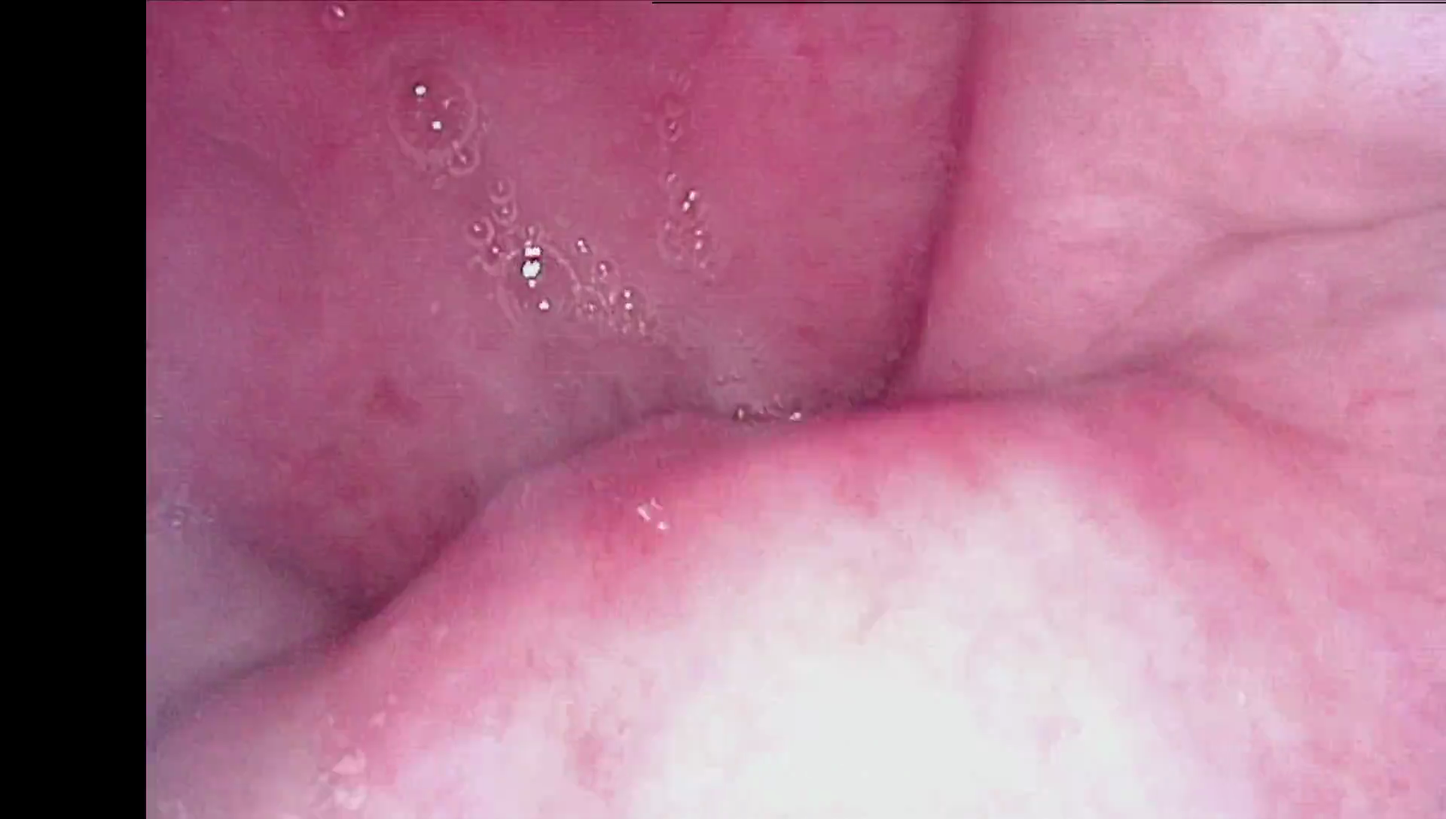close_wall: (392, 447, 1272, 819), (1126, 0, 1446, 156)
